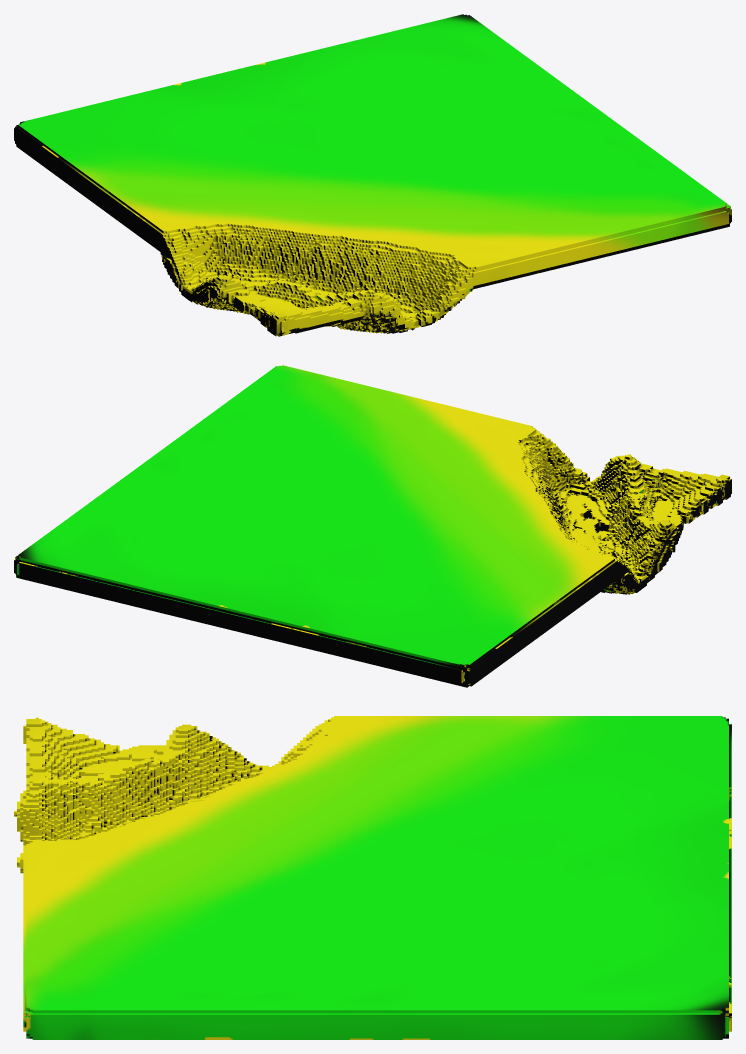
Rendered from village_terrain.fbx.
3 views of the same model, one above another, from view 1: azimuth 30°, elevation 25°; view 2: azimuth 150°, elevation 25°; view 3: azimuth 270°, elevation 25° (orthographic). The views are drawn at different scales.
Visible parts, largest first — view 1: Plane; view 2: Plane; view 3: Plane.
Part boxes in pixels (x1,y1,x2,y2): Plane: [14, 14, 731, 336]; Plane: [14, 365, 731, 687]; Plane: [14, 716, 731, 1039].
Size of the model in its own units: 2664 by 314 by 2687.
Materials: 1 (1 with a texture image).
